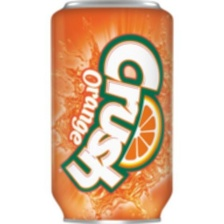can: (46, 0, 177, 224)
